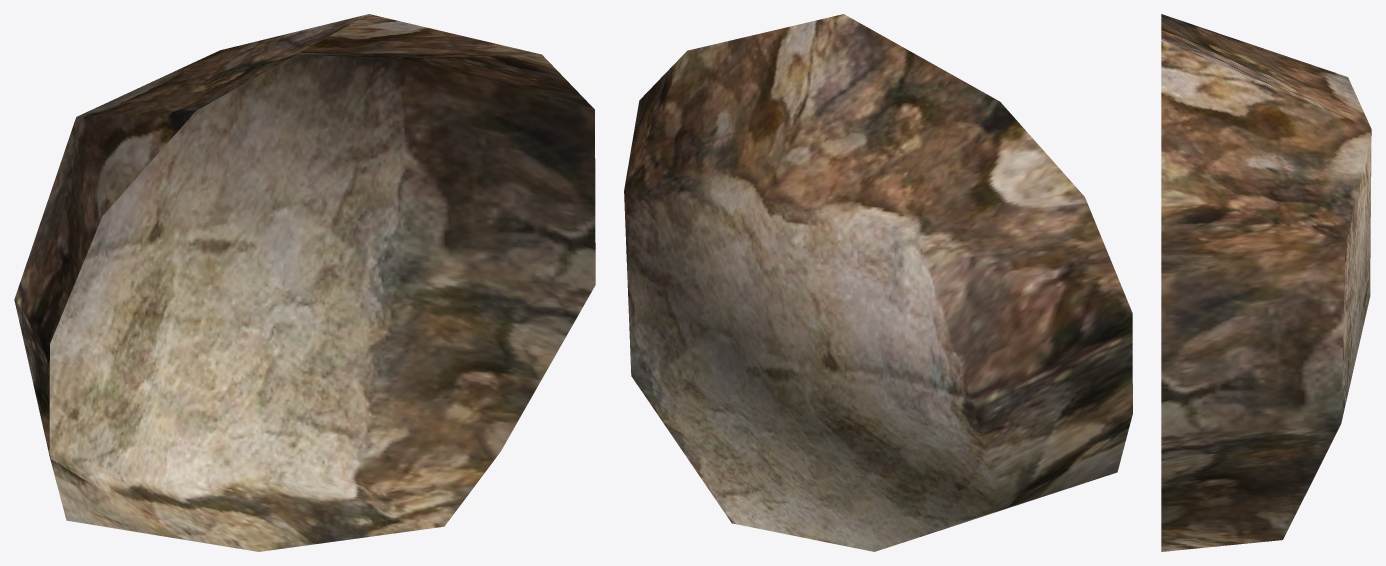
Rendered from ex_DungeonSet_Rock_01A.fbx.
The picture shows the model from 3 angles, left to right: view 1: azimuth 30°, elevation 25°; view 2: azimuth 150°, elevation 25°; view 3: azimuth 270°, elevation 25°; orthographic projection. The views are drawn at different scales.
Visible parts, largest first — view 1: ex_DungeonSet_Rock_01A; view 2: ex_DungeonSet_Rock_01A; view 3: ex_DungeonSet_Rock_01A.
Boxes of the visible parts, <box> form: ex_DungeonSet_Rock_01A: <box>14,14,595,551</box>; ex_DungeonSet_Rock_01A: <box>624,14,1132,551</box>; ex_DungeonSet_Rock_01A: <box>1161,14,1371,551</box>.
Bounding box in the file's own units: 513 × 476 × 190.
